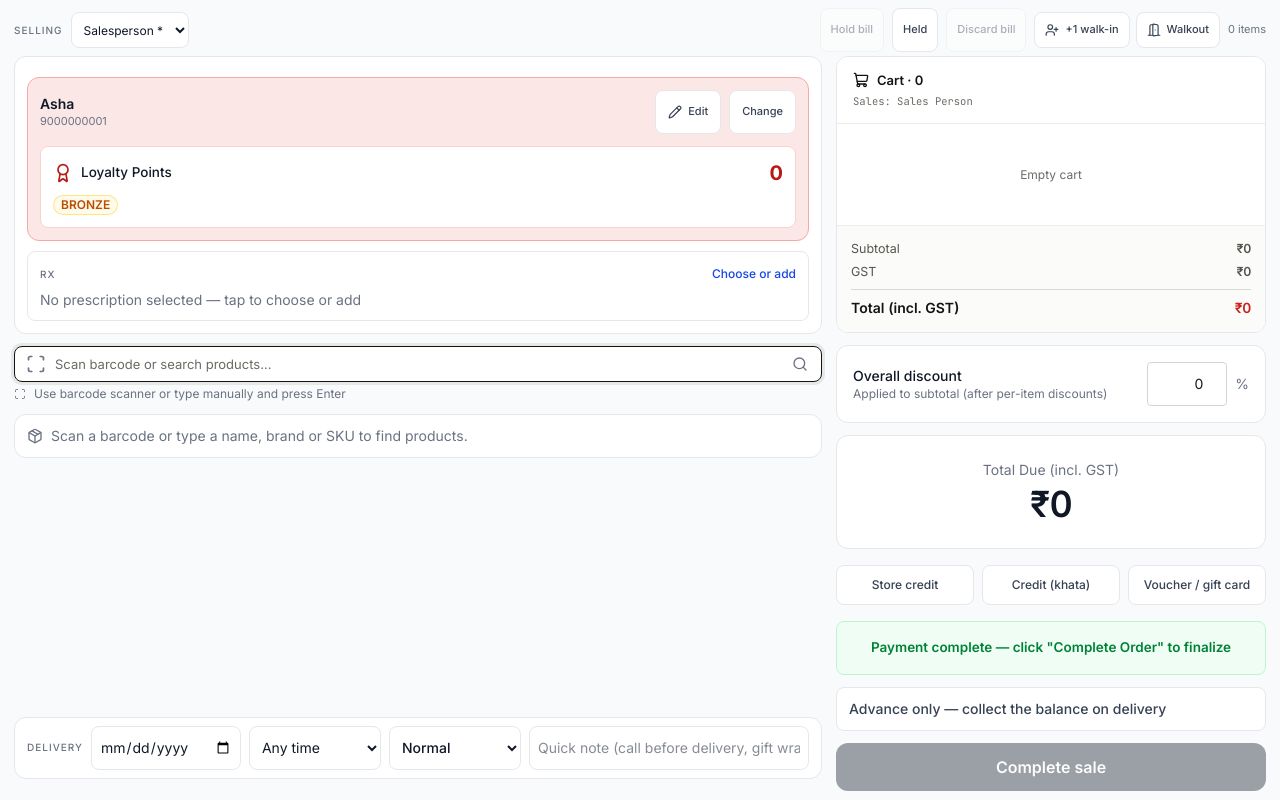
Scenario: the picker row tells absence apart from plano › shows a dash - never "+0.00" - for a power the Rx did not record
Click the button "Choose or add" at (754, 274), box 27,251 -> 809,321
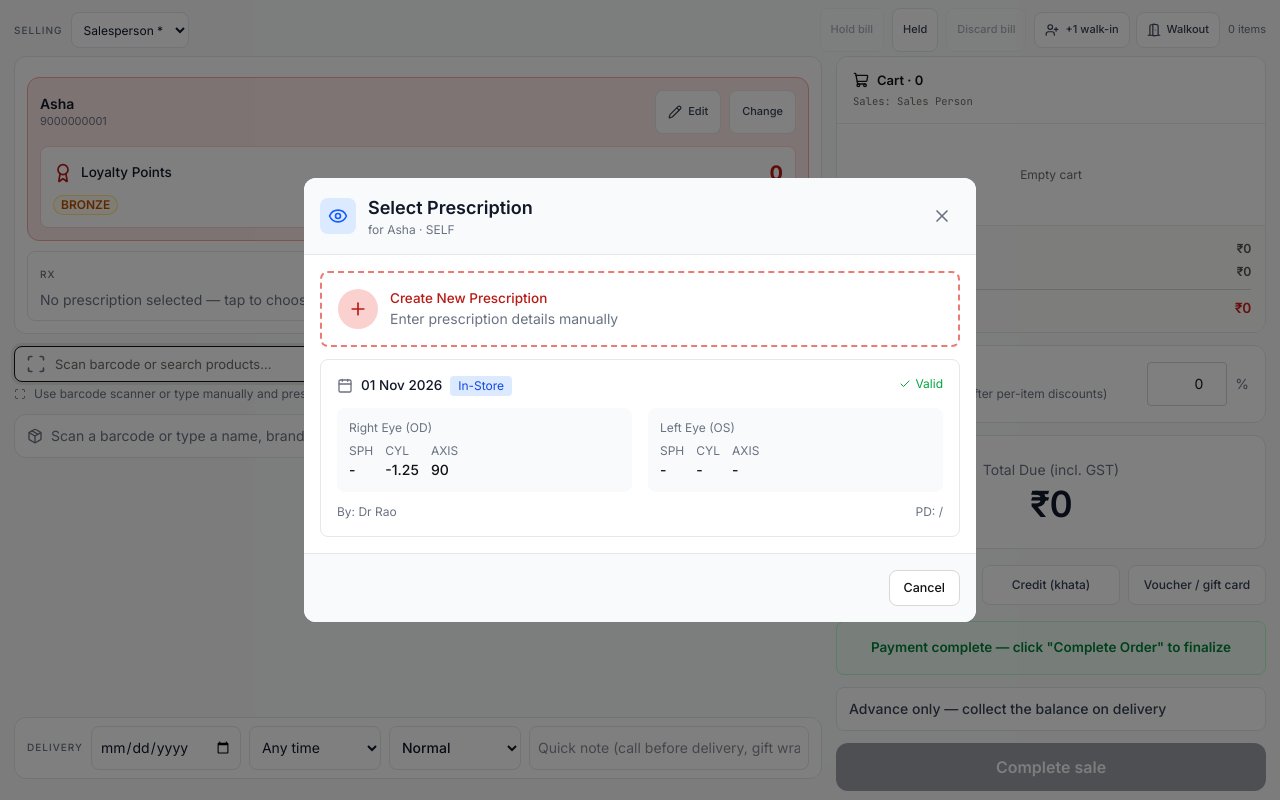
Now the text "Valid" is shown, box 899,376 -> 943,392
Now the text "AXIS" reads "SPH - CYL - AXIS -", box 660,443 -> 759,478
